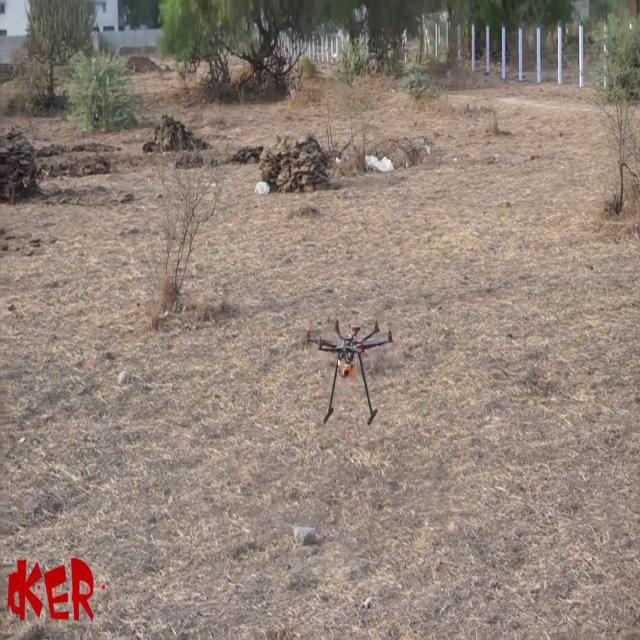drone: (304, 299, 400, 430)
